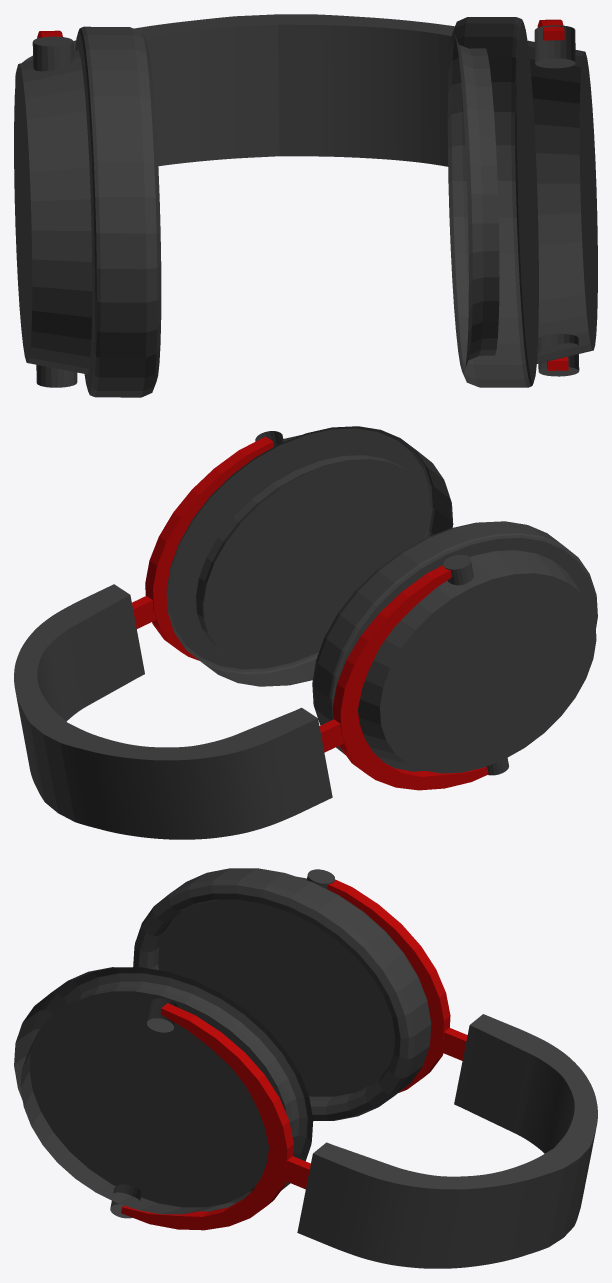
Rendered from Headset.glb.
3 views of the same model, one above another, from view 1: azimuth 30°, elevation 25°; view 2: azimuth 150°, elevation 25°; view 3: azimuth 270°, elevation 25° (orthographic). The views are drawn at different scales.
Visible parts, largest first — view 1: Headset; view 2: Headset; view 3: Headset.
Part boxes in pixels (left/top/right/bottom): Headset: left=14, top=14, right=597, bottom=397; Headset: left=14, top=426, right=597, bottom=839; Headset: left=14, top=868, right=597, bottom=1268.
Bounding box in the file's own units: 0.2008 × 0.0998 × 0.2253.
